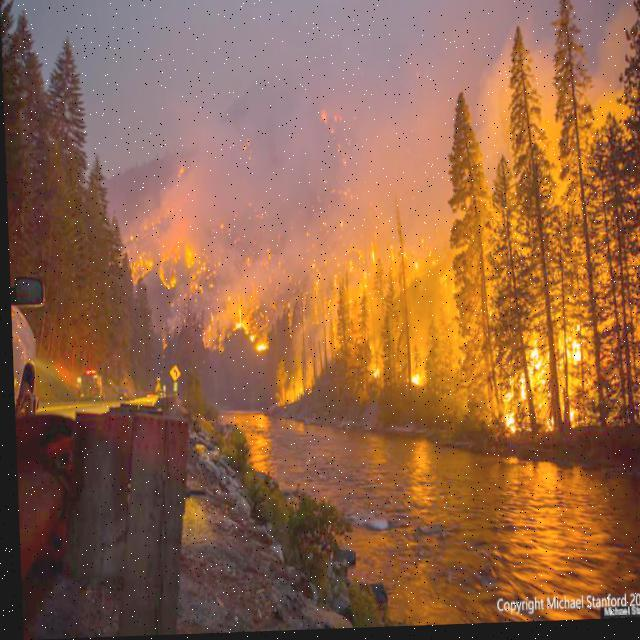Fire: (120, 96, 596, 446)
